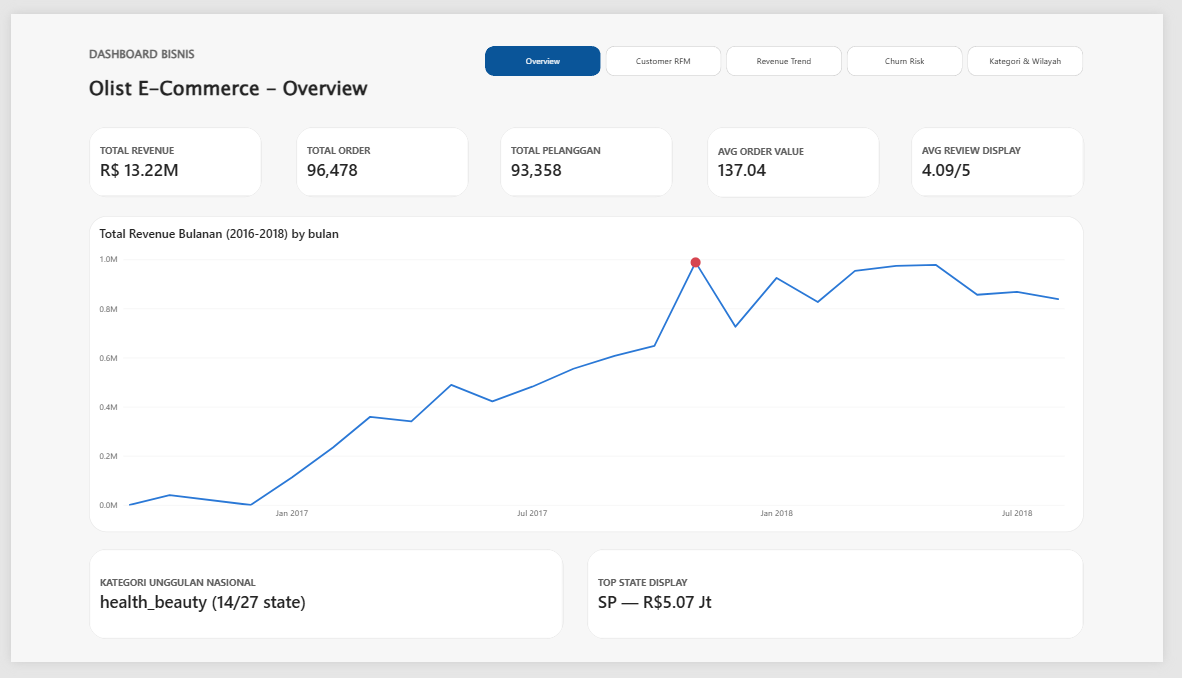

The page's visual inventory and layout, read from the dashboard file:
{"tool":"powerbi","page":{"name":"Overview","canvas":[1920,1080],"ordinal":0},"visuals":[{"type":"cardVisual","fields":{"Data":["Sum(Overview_KPI.total_revenue)"]},"box":[130,188.3,288.3,116.7],"z":0},{"type":"cardVisual","fields":{"Data":["Sum(Overview_KPI.total_order)"]},"box":[475,188.3,288.3,116.7],"z":1000},{"type":"cardVisual","fields":{"Data":["Sum(Overview_KPI.total_pelanggan)"]},"box":[815,188.3,288.3,116.7],"z":2000},{"type":"cardVisual","fields":{"Data":["Sum(Overview_KPI.avg_order_value)"]},"box":[1160,188.3,288.3,118.3],"z":3000},{"type":"lineChart","fields":{"Category":["MonthlyRevenue.bulan"],"Y":["Sum(MonthlyRevenue.revenue)"]},"box":[130,336.7,1658.3,526.7],"z":4000},{"type":"textbox","box":[130,53.3,490,106.7],"z":5000},{"type":"cardVisual","fields":{"Data":["CategoryWinCount.Top Category Display"]},"box":[129.8,891.4,790.8,150.3],"z":6000},{"type":"cardVisual","fields":{"Data":["Overview_KPI.Avg Review Display"]},"box":[1499.8,188.2,288.9,116.7],"z":7000},{"type":"cardVisual","fields":{"Data":["RevenuePerState.Top State Display"]},"box":[960,891.7,828.3,150],"z":8000},{"type":"pageNavigator","box":[789.3,54,1000,50],"z":9000}]}

Visuals, with their boxes in screenshot pixels (x1, y1, x2, y2), scaled from the page's 1920x1080 canvas onto the 1182x678 screenshot:
cardVisual - Sum(Overview_KPI.total_revenue): bbox=[80, 118, 258, 191]
cardVisual - Sum(Overview_KPI.total_order): bbox=[292, 118, 470, 191]
cardVisual - Sum(Overview_KPI.total_pelanggan): bbox=[502, 118, 679, 191]
cardVisual - Sum(Overview_KPI.avg_order_value): bbox=[714, 118, 892, 192]
lineChart - MonthlyRevenue.bulan x Sum(MonthlyRevenue.revenue): bbox=[80, 211, 1101, 542]
textbox: bbox=[80, 33, 382, 100]
cardVisual - CategoryWinCount.Top Category Display: bbox=[80, 560, 567, 654]
cardVisual - Overview_KPI.Avg Review Display: bbox=[923, 118, 1101, 191]
cardVisual - RevenuePerState.Top State Display: bbox=[591, 560, 1101, 654]
pageNavigator: bbox=[486, 34, 1102, 65]
